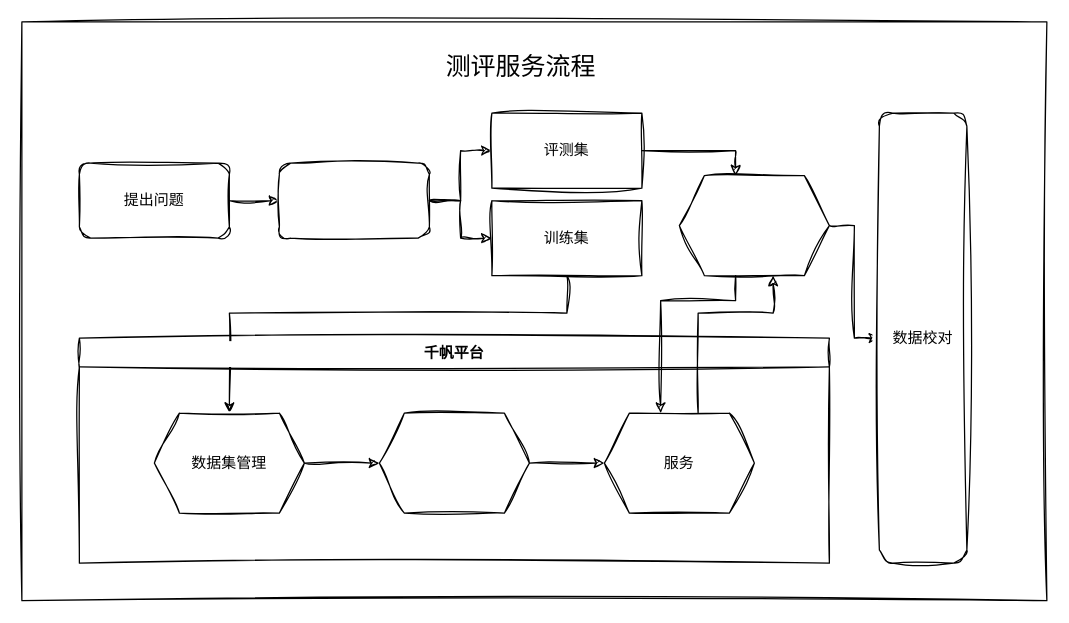
Some shapes in this 1069 by 623 pixel diagram are drawn without their labels. Each missing label, with the box of its shape:
数据评测服务: (678, 174, 829, 276)
模型: (378, 412, 529, 513)
问题标注: (278, 162, 429, 238)
